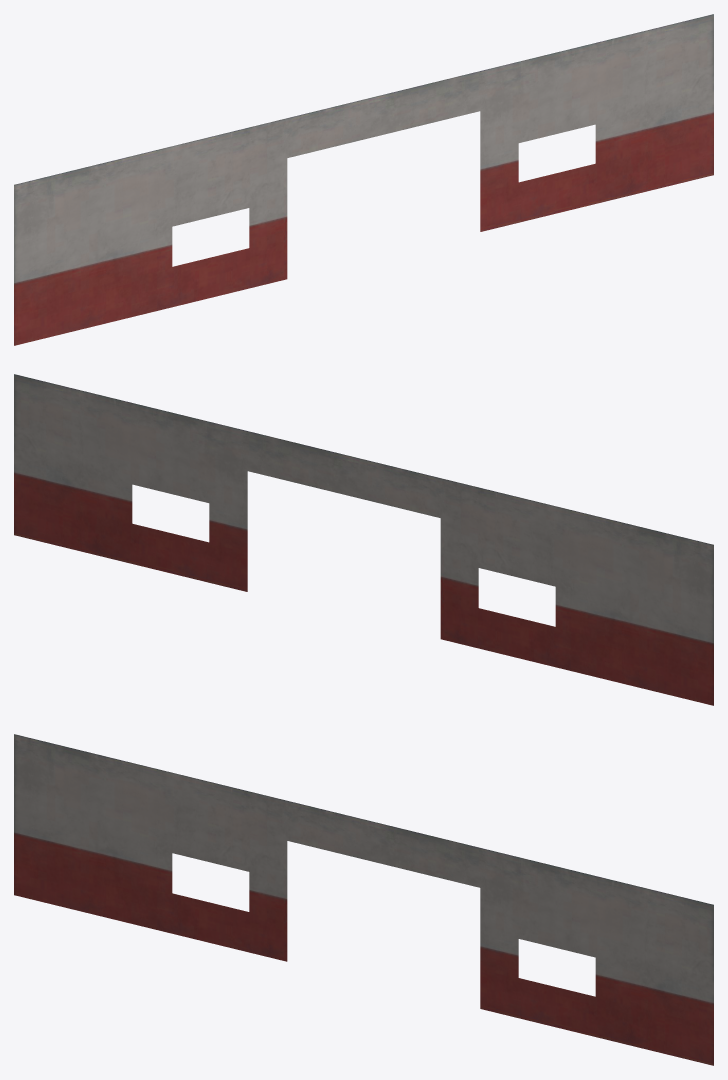
Rendered from Market_front.fbx.
The picture shows the model from 3 angles, top to bottom: view 1: azimuth 30°, elevation 25°; view 2: azimuth 150°, elevation 25°; view 3: azimuth 330°, elevation 25°; orthographic projection.
Visible parts, largest first — view 1: Wall_Panel.217; view 2: Wall_Panel.217; view 3: Wall_Panel.217.
Part boxes in pixels (x1=…): Wall_Panel.217: x1=14, y1=14, x2=713, y2=345; Wall_Panel.217: x1=14, y1=374, x2=713, y2=705; Wall_Panel.217: x1=14, y1=734, x2=713, y2=1065.
Size of the model in its own units: 18.19 by 4 by 7.99e-06.
